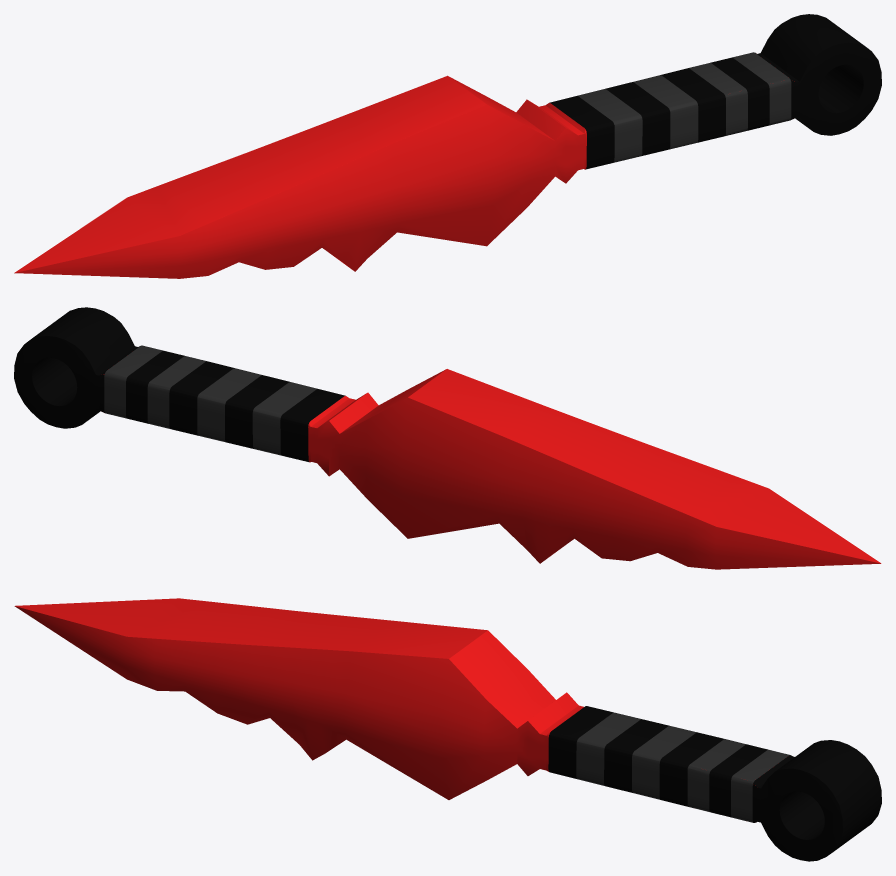
Rendered from Throwing_Knife_Model (2).fbx.
The picture shows the model from 3 angles, top to bottom: view 1: azimuth 30°, elevation 25°; view 2: azimuth 150°, elevation 25°; view 3: azimuth 330°, elevation 25°; orthographic projection.
Parts seen in each view (by area): view 1: Cube; view 2: Cube; view 3: Cube.
Boxes of the visible parts, left/top/right/bottom form: Cube: left=14, top=14, right=881, bottom=278; Cube: left=14, top=307, right=881, bottom=569; Cube: left=14, top=598, right=881, bottom=861.
Bounding box in the file's own units: 453 × 72.25 × 51.48.
